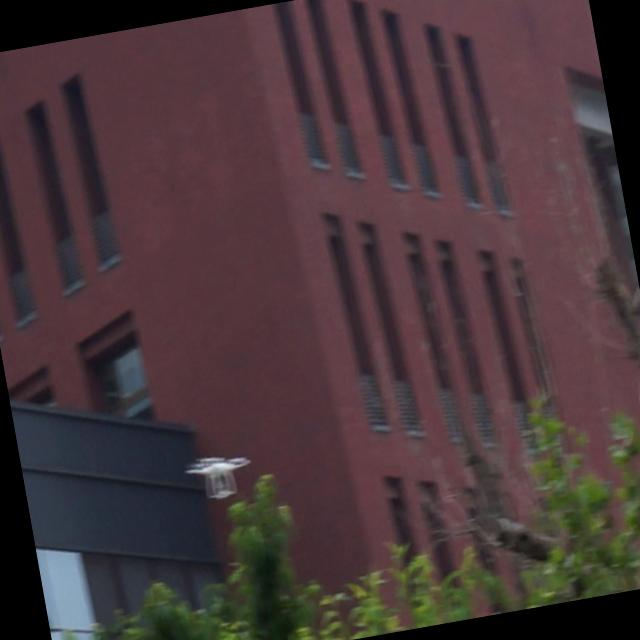drone: (182, 449, 256, 504)
